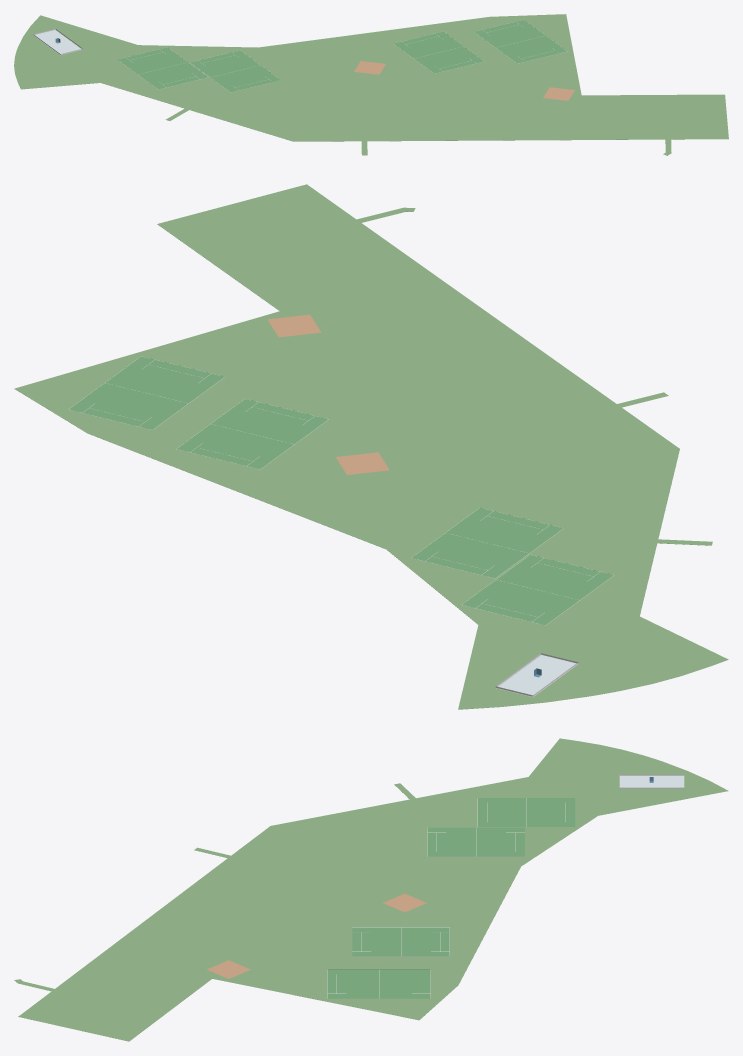
The model's file is centrepointe-park.gltf.
The picture shows the model from 3 angles, top to bottom: view 1: azimuth 30°, elevation 25°; view 2: azimuth 150°, elevation 25°; view 3: azimuth 270°, elevation 25°; orthographic projection. The views are drawn at different scales.
Visible parts, largest first — view 1: Park_ground, Field_East, Field_West, Field_Centre_East, Field_Centre_West, Outdoor_Rink, Diamond_Softball_West, Diamond_Softball_East; view 2: Park_ground, Field_East, Field_Centre_East, Field_West, Field_Centre_West, Outdoor_Rink, Diamond_Softball_West, Diamond_Softball_East; view 3: Park_ground, Field_East, Field_Centre_East, Field_Centre_West, Field_West, Outdoor_Rink.
Boxes of the visible parts, <box> form: Park_ground: <box>14,14,728,155</box>; Field_East: <box>474,20,566,63</box>; Field_West: <box>118,47,207,89</box>; Field_Centre_East: <box>394,31,483,73</box>; Field_Centre_West: <box>190,50,280,92</box>; Outdoor_Rink: <box>35,30,80,53</box>; Diamond_Softball_West: <box>354,61,385,74</box>; Diamond_Softball_East: <box>543,87,574,100</box>; Park_ground: <box>14,184,728,709</box>; Field_East: <box>69,356,224,429</box>; Field_Centre_East: <box>177,399,328,469</box>; Field_West: <box>462,554,613,625</box>; Field_Centre_West: <box>412,508,563,578</box>; Outdoor_Rink: <box>498,655,575,695</box>; Diamond_Softball_West: <box>336,452,389,474</box>; Diamond_Softball_East: <box>267,314,321,337</box>; Park_ground: <box>14,738,728,1041</box>; Field_East: <box>327,969,430,998</box>; Field_Centre_East: <box>352,927,449,956</box>; Field_Centre_West: <box>427,827,524,856</box>; Field_West: <box>478,798,575,826</box>; Outdoor_Rink: <box>620,776,683,787</box>.
Size of the model in its own units: 625 by 4.2 by 623.
